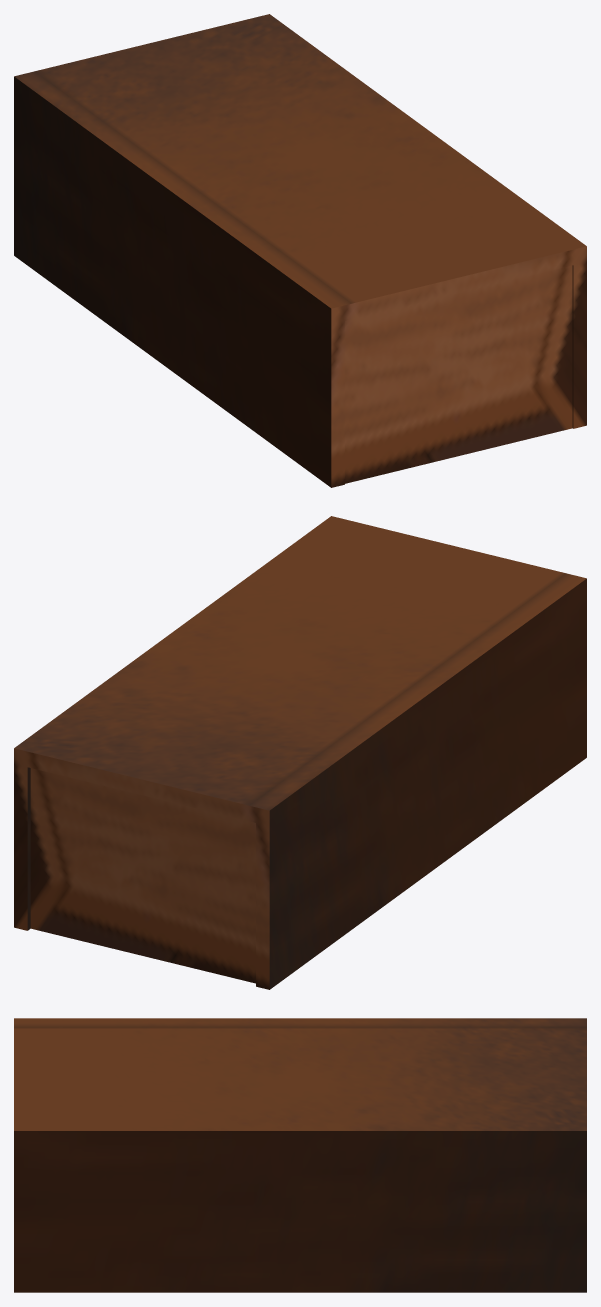
File: pz_bookcase_oak.obj
3 views of the same model, one above another, from view 1: azimuth 30°, elevation 25°; view 2: azimuth 150°, elevation 25°; view 3: azimuth 270°, elevation 25° (orthographic). The views are drawn at different scales.
Bounding box in the file's own units: 0.94 × 0.63 × 2.02.
Materials: 1 (1 with a texture image).
